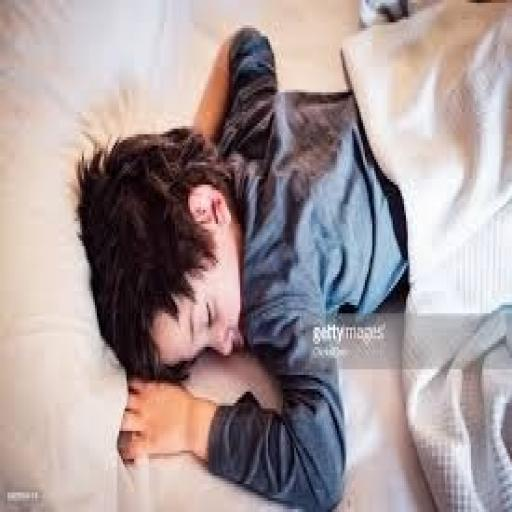sleeping: (73, 3, 510, 509)
